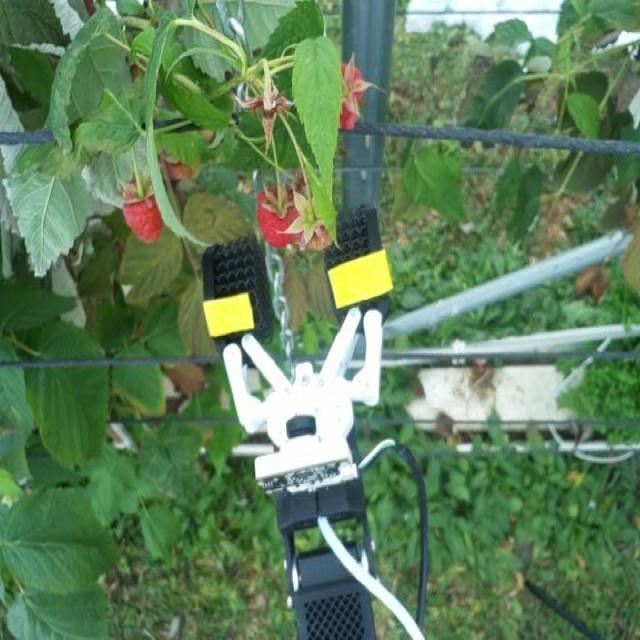Riped berries: (248, 176, 302, 248), (334, 58, 384, 132), (118, 180, 167, 246)
